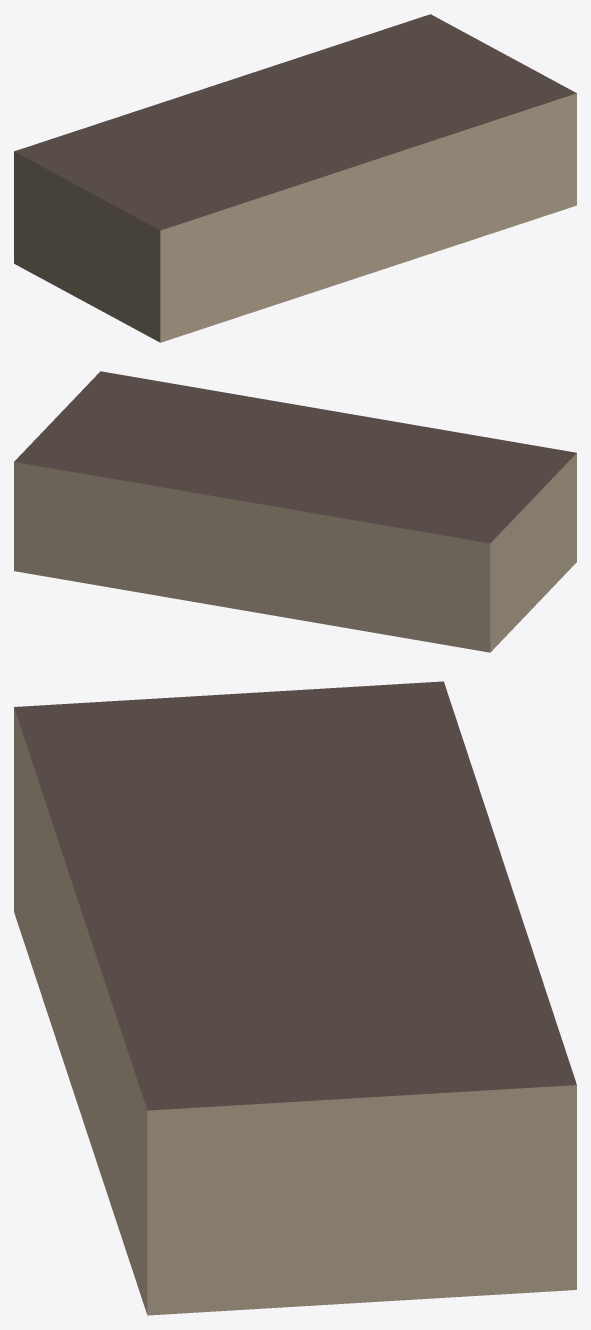
The picture shows the model from 3 angles, top to bottom: view 1: azimuth 30°, elevation 25°; view 2: azimuth 150°, elevation 25°; view 3: azimuth 270°, elevation 25°; orthographic projection. The views are drawn at different scales.
Parts seen in each view (by area): view 1: HP-w369237850; view 2: HP-w369237850; view 3: HP-w369237850.
Boxes of the visible parts, x1,y1,x2,y2 form: HP-w369237850: (14, 14, 576, 342); HP-w369237850: (14, 371, 576, 652); HP-w369237850: (14, 681, 576, 1315).
Bounding box in the file's own units: 40.42 × 9 × 22.41.
